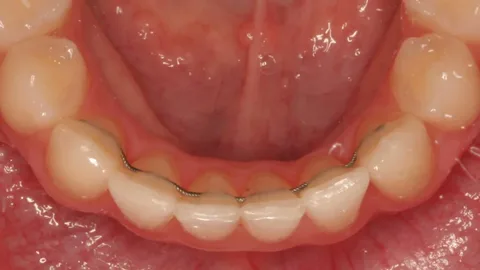LL1BC_healthy: (393, 38, 480, 123)
LLCI_decay: (243, 172, 305, 241)
LLC_decay: (356, 119, 435, 205)
LLLI_decay: (299, 161, 367, 225)
LR1BC_healthy: (6, 49, 85, 121)
LRCI_decay: (185, 175, 240, 235)
LRC_decay: (52, 123, 115, 193)
LRLI_decay: (118, 153, 177, 224)
